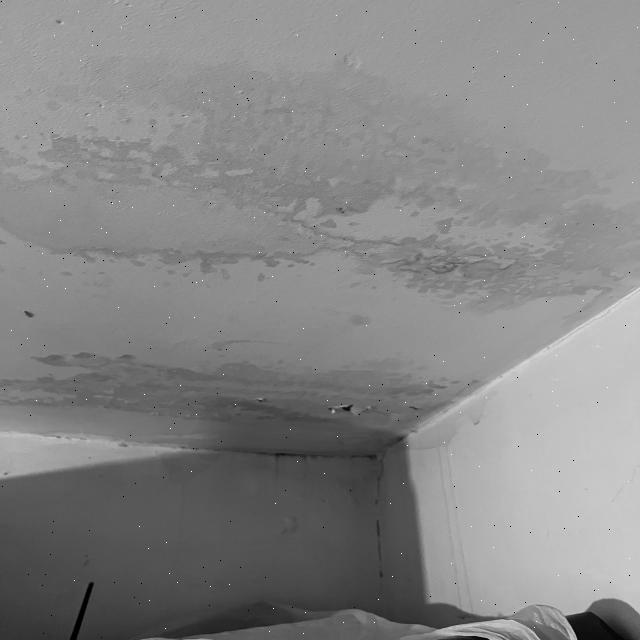stain marks: (6, 34, 640, 318), (2, 338, 506, 442), (427, 438, 474, 624)
